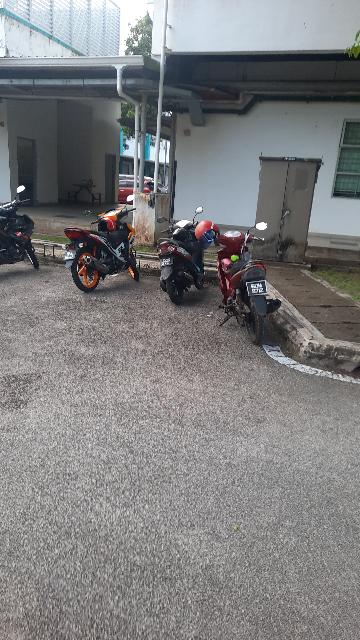License_Plate: (245, 281, 269, 298), (161, 258, 176, 268), (63, 252, 77, 261)
motorcycle: (198, 221, 289, 345), (54, 193, 147, 293), (152, 205, 208, 307)
